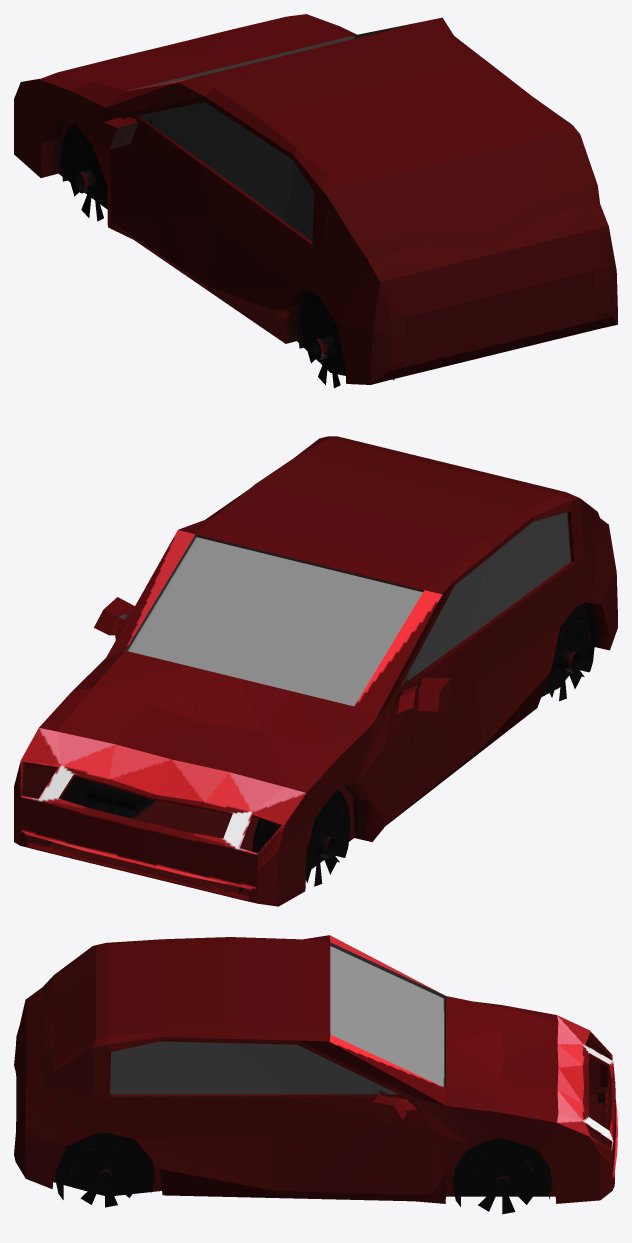
Rendered from car.fbx.
3 renders of one model, top to bottom at view 1: azimuth 30°, elevation 25°; view 2: azimuth 150°, elevation 25°; view 3: azimuth 270°, elevation 25°, orthographic. The views are drawn at different scales.
Visible parts, largest first — view 1: Cube, Cube.001; view 2: Cube, Cube.001; view 3: Cube, Cube.001.
Boxes of the visible parts, x1=… form: Cube: x1=93, y1=17, x2=617, y2=388; Cube.001: x1=14, y1=14, x2=356, y2=238; Cube: x1=94, y1=436, x2=617, y2=825; Cube.001: x1=14, y1=650, x2=385, y2=906; Cube: x1=14, y1=935, x2=470, y2=1207; Cube.001: x1=414, y1=996, x2=617, y2=1214.
Bounding box in the file's own units: 216 × 145 × 397.
